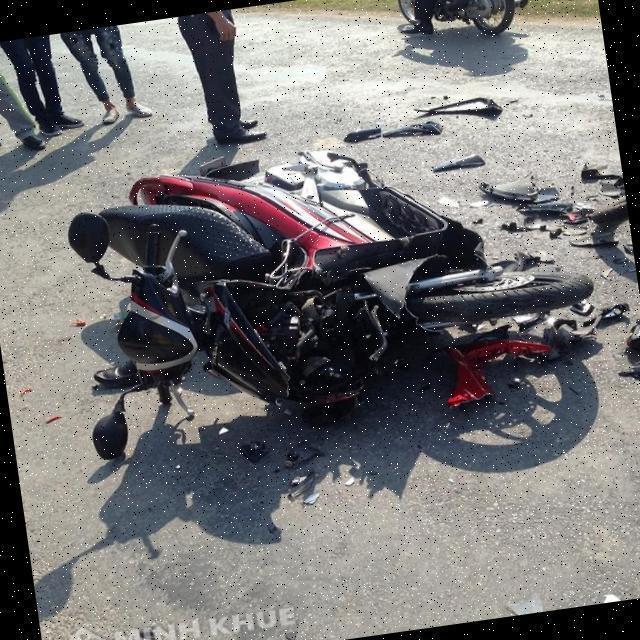accident: (1, 44, 640, 511)
